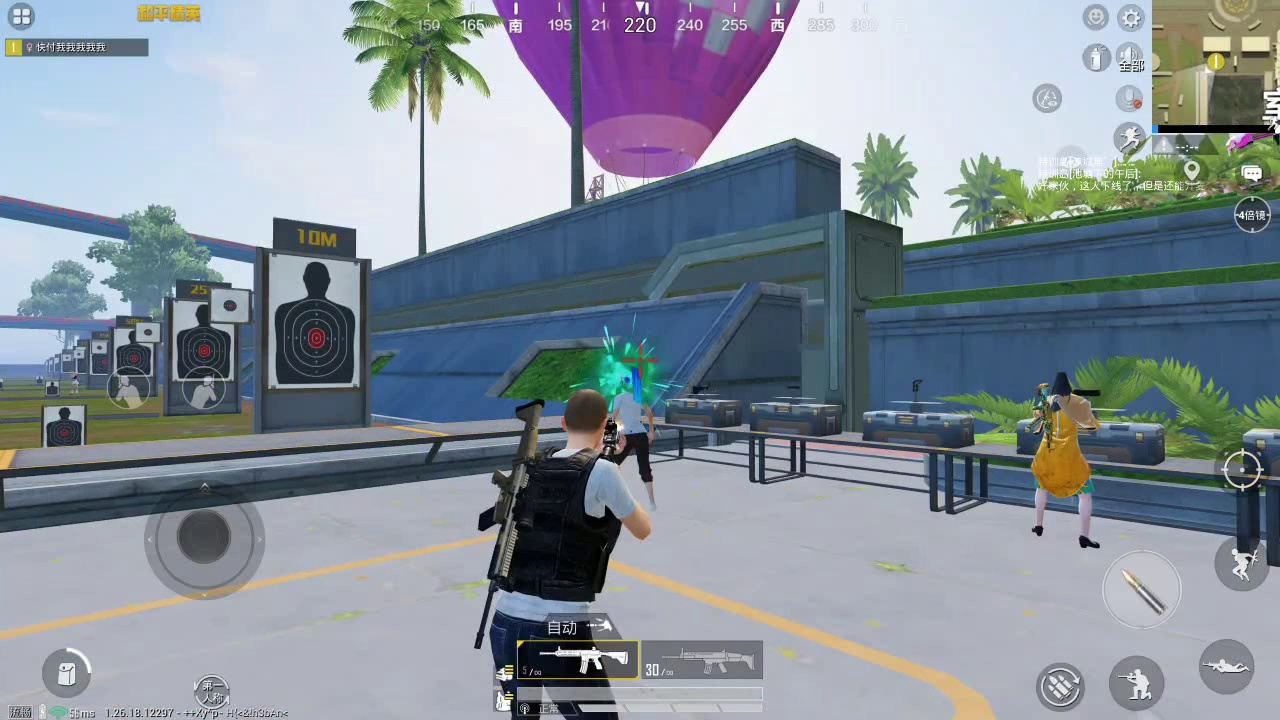enemy: (1027, 369, 1099, 549), (606, 364, 660, 511)
